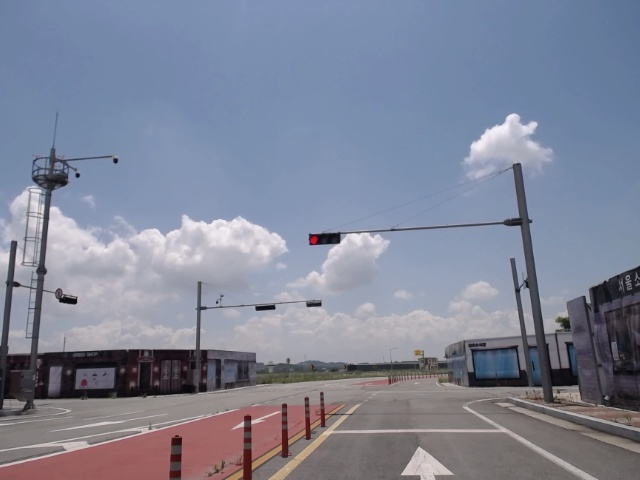red_3: (309, 233, 340, 244)
